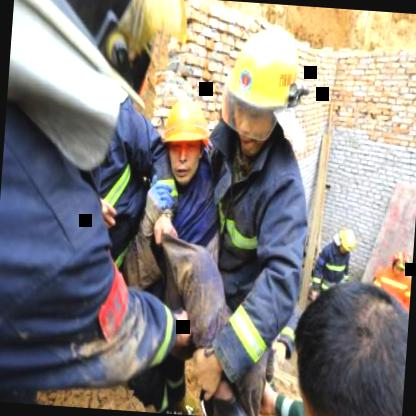helmet: (283, 274, 411, 416), (220, 20, 309, 156), (156, 94, 214, 188), (336, 226, 358, 256)
